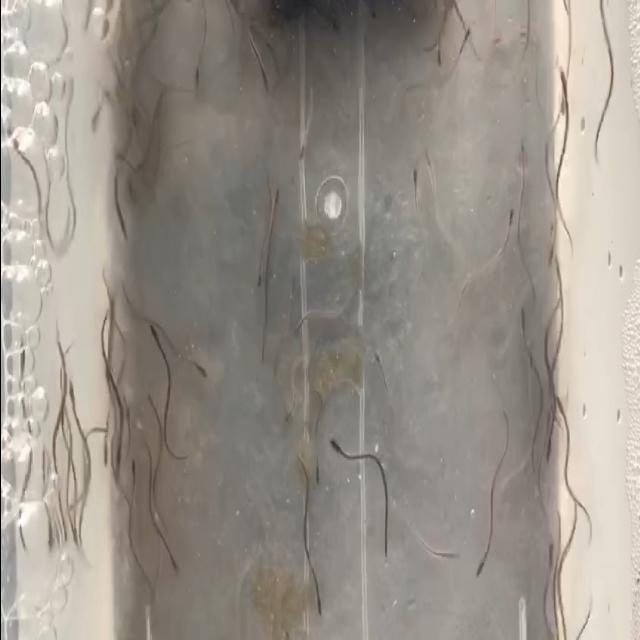active_glass_eel: (85, 90, 106, 144), (550, 393, 572, 438), (112, 198, 130, 252), (13, 331, 28, 394), (256, 58, 274, 108), (543, 216, 557, 280), (188, 350, 210, 390), (436, 533, 462, 565), (110, 441, 124, 496), (192, 48, 210, 90), (112, 141, 134, 175), (556, 84, 572, 130), (140, 375, 160, 411), (421, 144, 437, 188), (290, 302, 307, 342), (554, 54, 569, 98), (64, 375, 81, 413), (474, 542, 488, 588), (328, 430, 348, 462), (6, 130, 26, 162), (488, 18, 506, 52), (99, 428, 112, 474), (144, 320, 164, 349), (44, 506, 56, 554), (516, 136, 530, 176), (431, 30, 445, 70), (294, 125, 309, 162), (251, 253, 264, 295), (61, 528, 74, 570), (455, 26, 471, 60), (506, 200, 518, 244), (542, 424, 553, 471), (123, 448, 138, 482), (284, 392, 298, 428), (166, 551, 182, 582), (273, 175, 285, 216), (370, 348, 384, 382), (544, 533, 554, 580), (409, 164, 421, 202), (313, 457, 326, 492), (313, 590, 326, 624), (515, 300, 525, 344)
